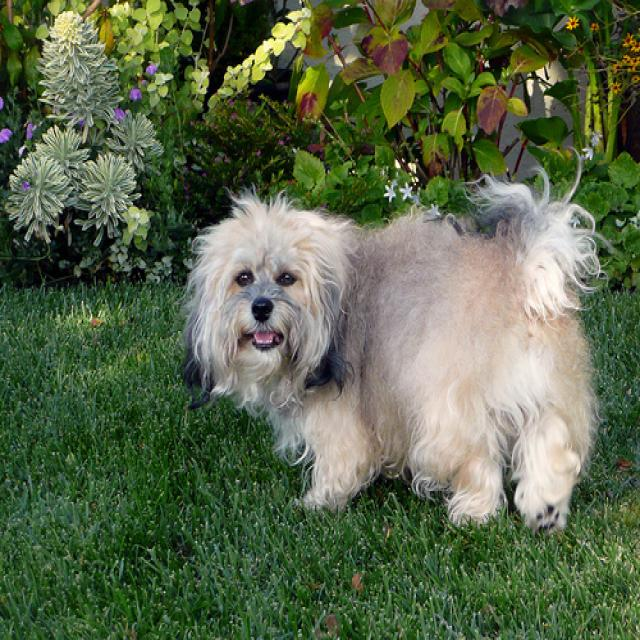dog-havanese: (182, 179, 607, 532)
